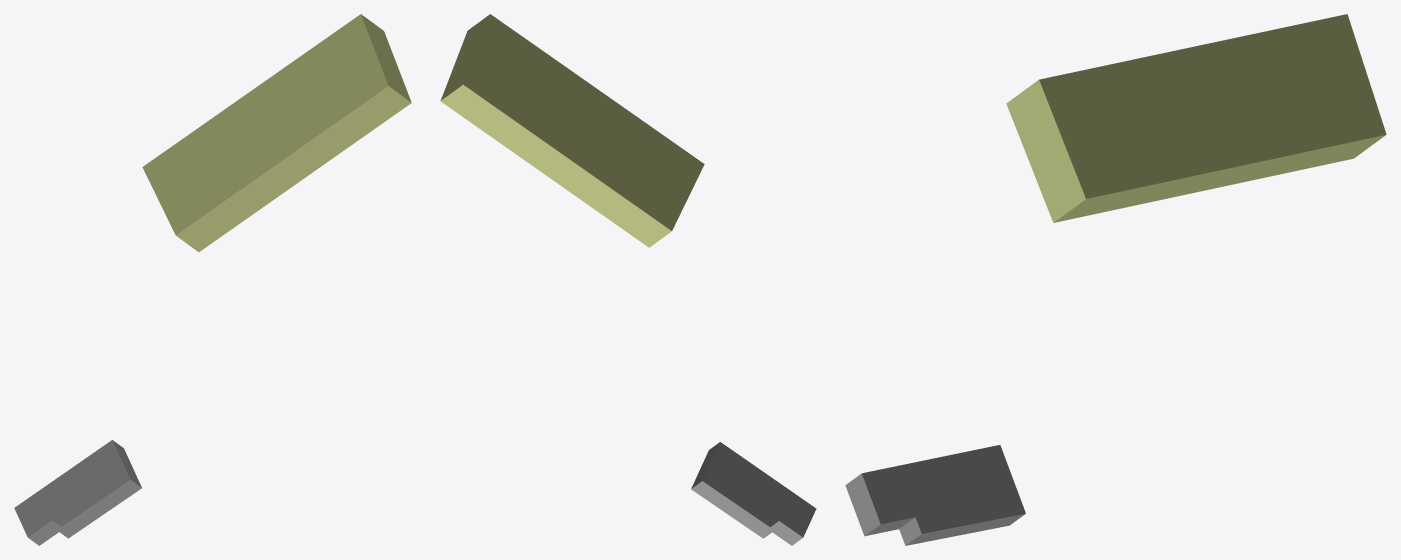
3 renders of one model, left to right at view 1: azimuth 30°, elevation 25°; view 2: azimuth 150°, elevation 25°; view 3: azimuth 330°, elevation 25°, orthographic. The views are drawn at different scales.
Visible parts, largest first — view 1: 0_1_1_3_3_2_1_1; view 2: 0_1_1_3_3_2_1_1; view 3: 0_1_1_3_3_2_1_1.
Boxes of the visible parts, x1,y1,x2,y2 form: 0_1_1_3_3_2_1_1: (14,14,411,545); 0_1_1_3_3_2_1_1: (440,14,816,545); 0_1_1_3_3_2_1_1: (845,14,1386,545).
Size of the model in its own units: 55.72 by 63.27 by 6.33.
